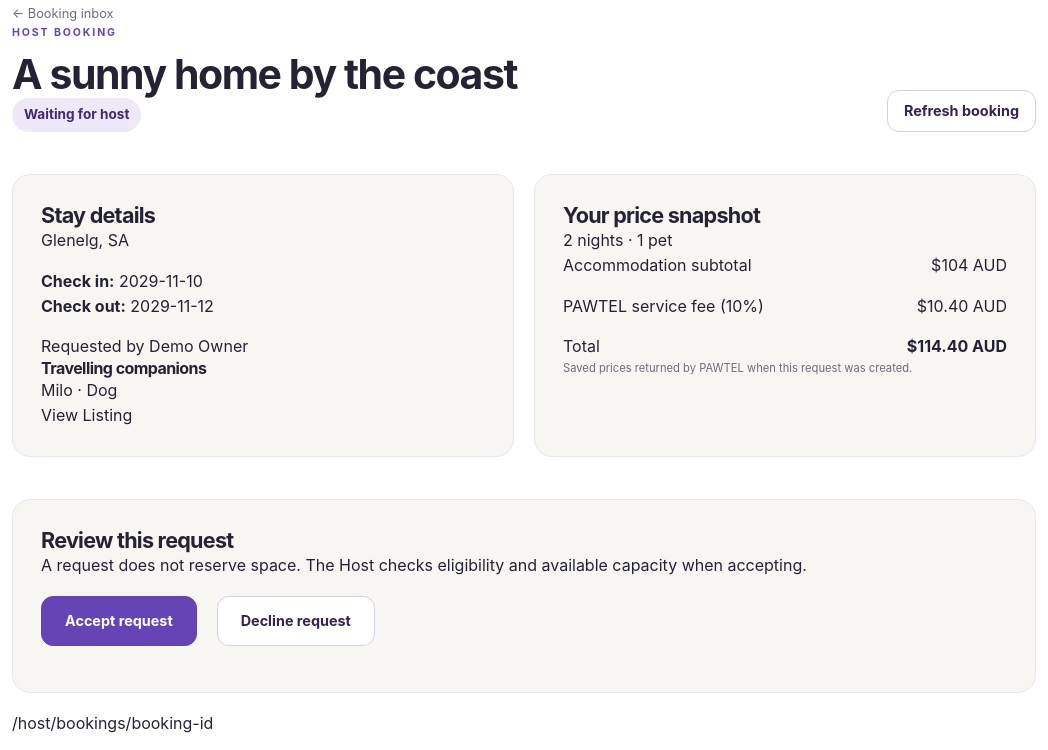
Scenario: Host accept uses explicit action and refreshes detail and collections
This screenshot has width=1048, height=750.
Expected: the text "Requested by Demo Owner" is shown, x1=41 y1=336 x2=248 y2=356
Click the button "Accept request": x=119, y=621 x1=41 y1=596 x2=197 y2=646
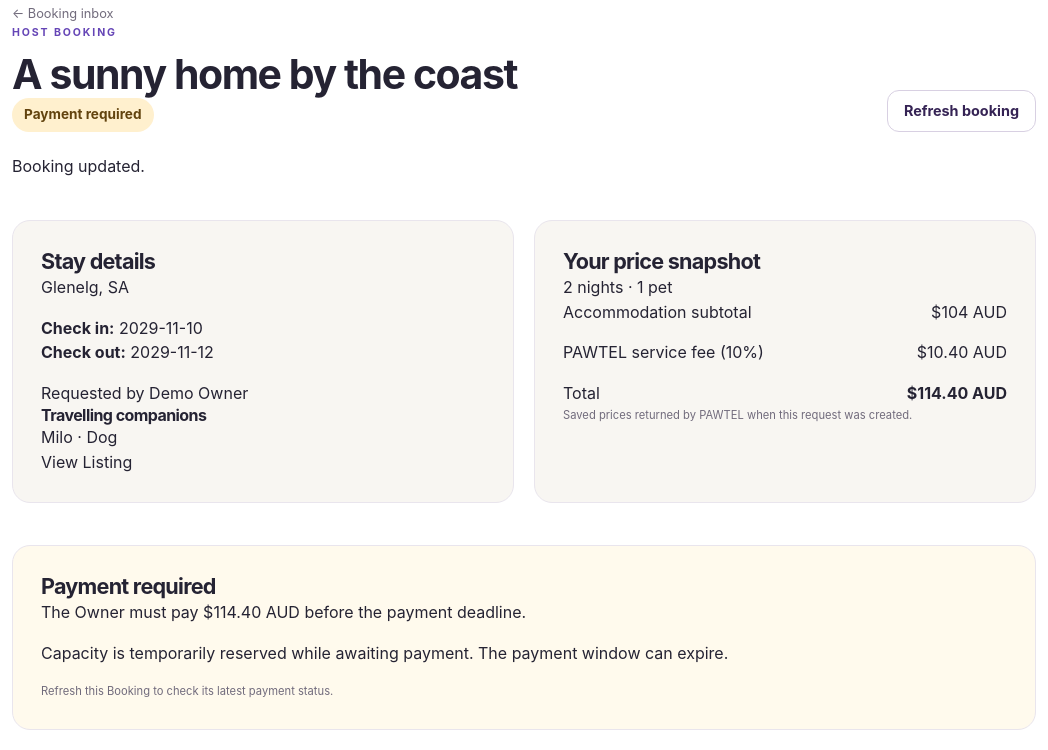
Now the button "Accept request" is gone
Now the text "Payment required" is shown, box x1=12 y1=98 x2=154 y2=132
